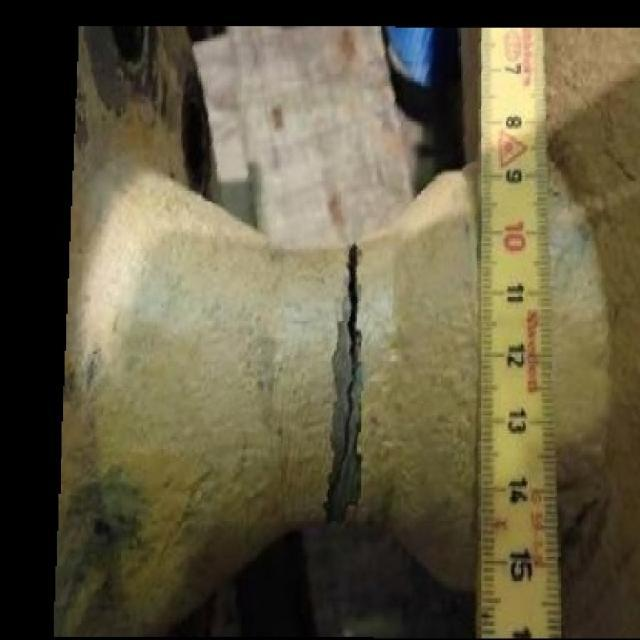crack: (344, 243, 361, 472)
